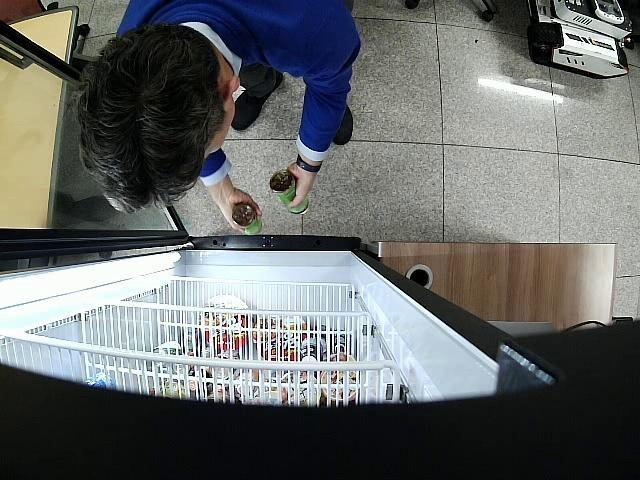19_17cha: (270, 170, 308, 214), (232, 203, 264, 234)
